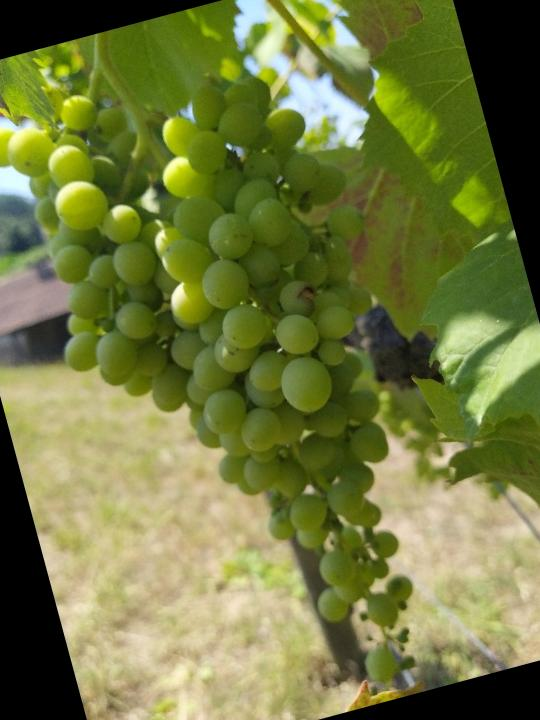grape: (0, 29, 491, 720)
